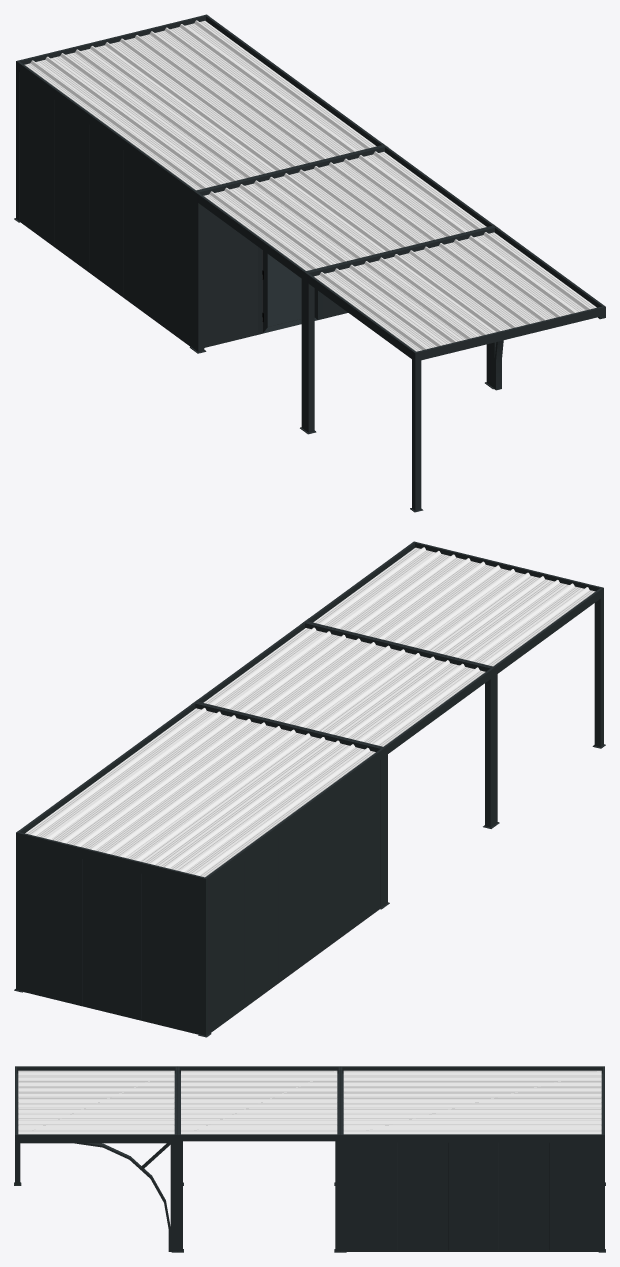
The model's file is 13446_5x3_entreedroite.fbx.
3 views of the same model, one above another, from view 1: azimuth 30°, elevation 25°; view 2: azimuth 150°, elevation 25°; view 3: azimuth 270°, elevation 25° (orthographic). The views are drawn at different scales.
Visible parts, largest first — view 1: priximbattable_net_abris_de_voiture_13446_module_carport_ave, folha; view 2: priximbattable_net_abris_de_voiture_13446_module_carport_ave; view 3: priximbattable_net_abris_de_voiture_13446_module_carport_ave.
Boxes of the visible parts, x1,y1,x2,y2 form: priximbattable_net_abris_de_voiture_13446_module_carport_ave: (14, 14, 605, 512); folha: (262, 250, 317, 333); priximbattable_net_abris_de_voiture_13446_module_carport_ave: (14, 541, 605, 1037); priximbattable_net_abris_de_voiture_13446_module_carport_ave: (14, 1066, 605, 1252).
Size of the model in its own units: 324 by 254 by 1164.
1 material, 1 textured.
